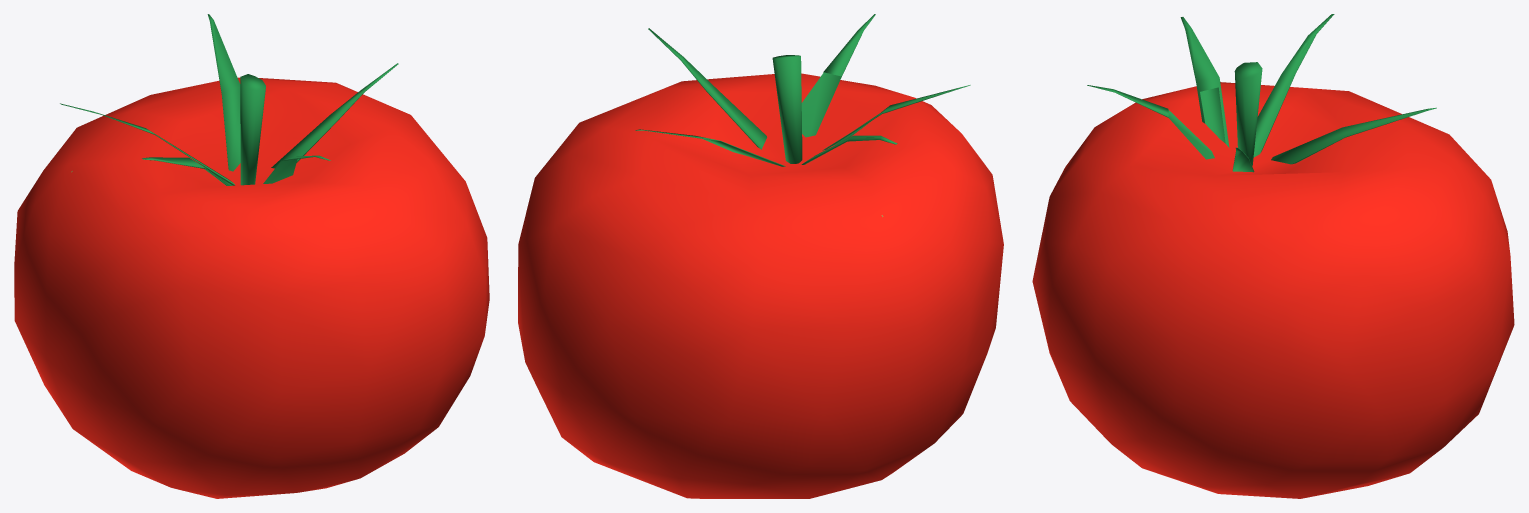
The model's file is tomato.fbx.
The picture shows the model from 3 angles, left to right: view 1: azimuth 30°, elevation 25°; view 2: azimuth 150°, elevation 25°; view 3: azimuth 270°, elevation 25°; orthographic projection. The views are drawn at different scales.
Visible parts, largest first — view 1: tomato_whole; view 2: tomato_whole; view 3: tomato_whole.
Boxes of the visible parts, x1,y1,x2,y2 form: tomato_whole: (14,14,489,498); tomato_whole: (518,14,1003,498); tomato_whole: (1032,14,1514,498).
Size of the model in its own units: 26.44 by 23.6 by 27.23.
1 material, 1 textured.
